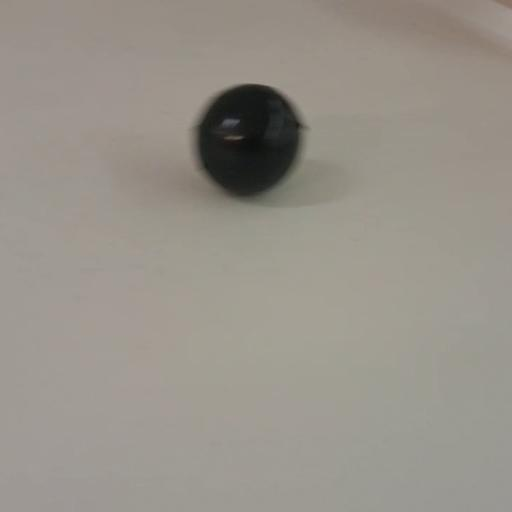dead: (197, 82, 302, 198)
